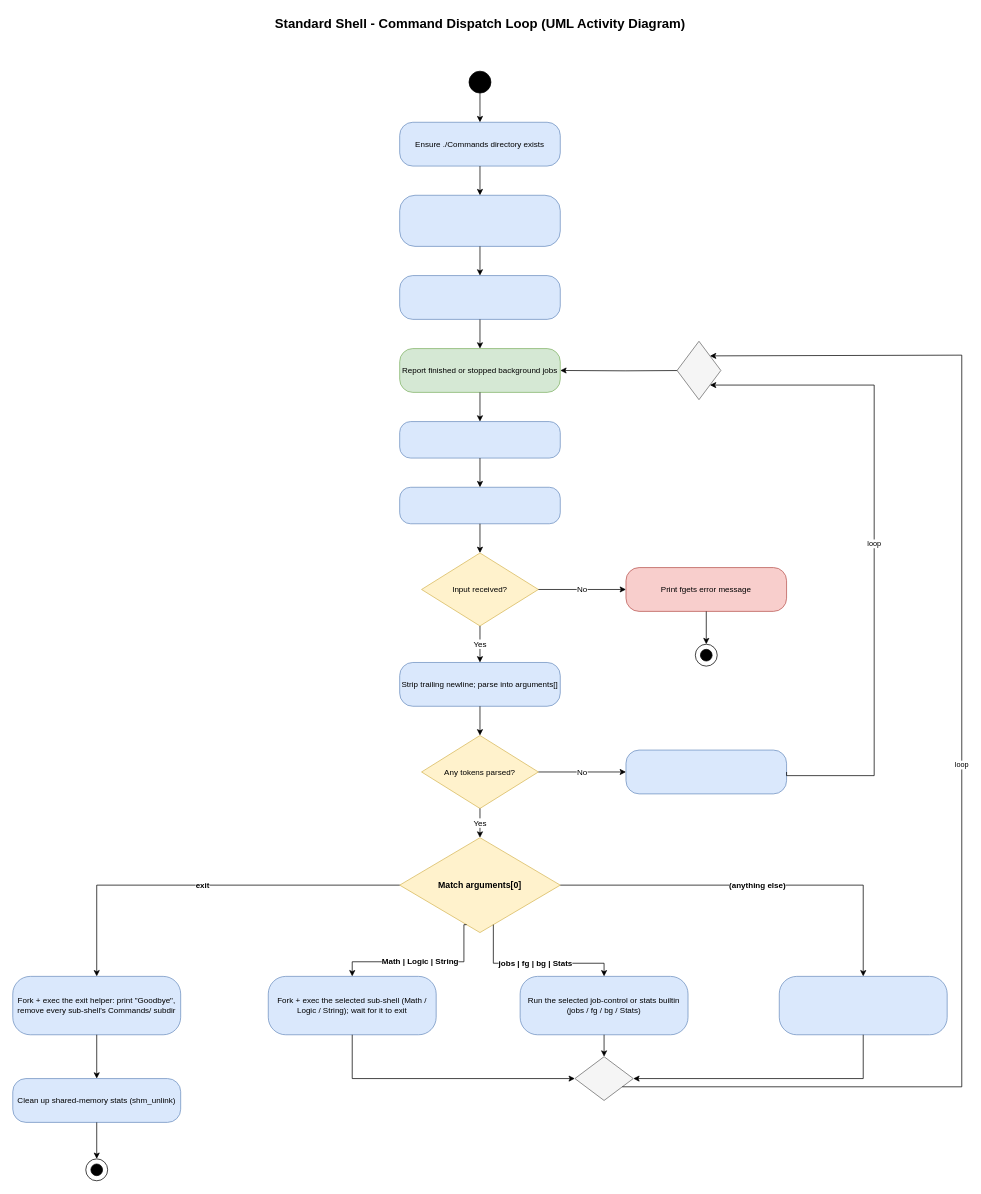
The diagram is 981 pixels wide and 1194 high, and some of its shapes have lost their labels. The box of each missing label's shape, as (x1, y1, x2, y2) in pixels:
Initialize job control: claim the terminal, install signal handlers: (399, 195, 560, 246)
Open shared-memory stats; reset session counter: (399, 275, 560, 319)
Parse and run as a pipeline: pipes, redirection, optional background (&): (779, 976, 947, 1035)
Print "No input received": (625, 749, 787, 794)
Print prompt "StandardShell > ": (399, 421, 560, 458)
Read a line of user input (fgets): (399, 487, 560, 524)
